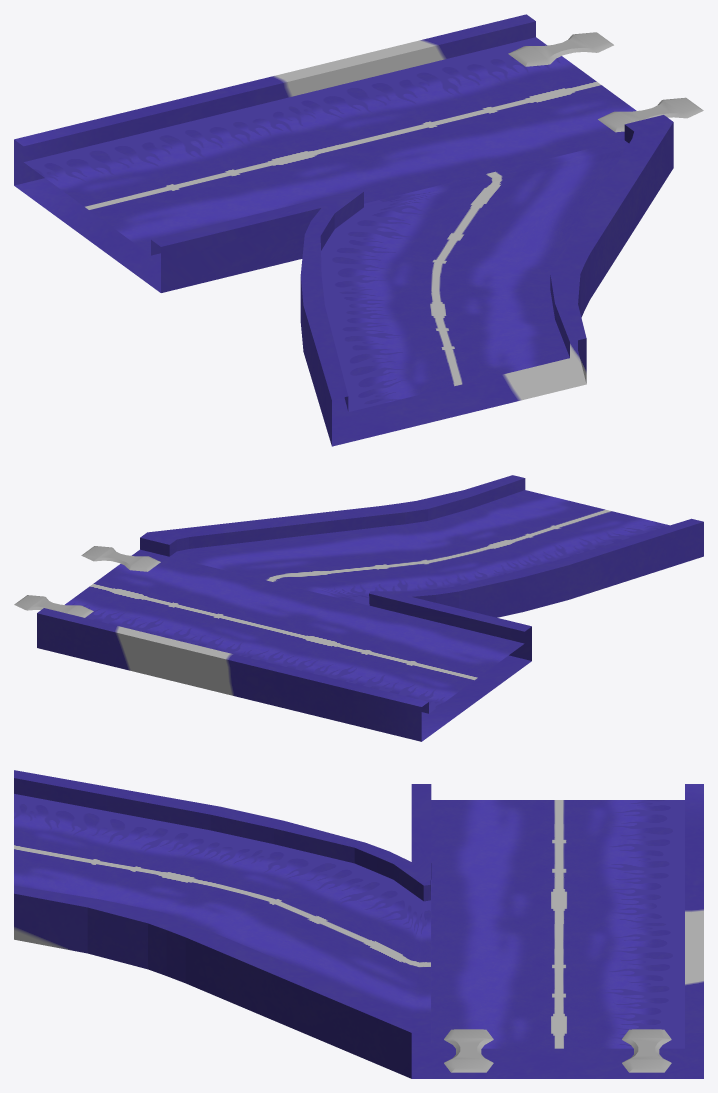
Rendered from PV_ForkB.fbx.
3 views of the same model, one above another, from view 1: azimuth 30°, elevation 25°; view 2: azimuth 150°, elevation 25°; view 3: azimuth 270°, elevation 25° (orthographic). The views are drawn at different scales.
Parts seen in each view (by area): view 1: FORK, polySurface15; view 2: FORK, polySurface15; view 3: FORK, polySurface15.
Boxes of the visible parts, <box> form: FORK: <box>14,14,673,446</box>; polySurface15: <box>508,32,703,132</box>; FORK: <box>37,475,703,741</box>; polySurface15: <box>14,546,160,617</box>; FORK: <box>14,770,703,1078</box>; polySurface15: <box>444,1029,671,1072</box>.
Bounding box in the file's own units: 5530 × 416 × 5615.
